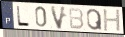0: (34, 6, 48, 29)
B: (68, 7, 85, 31)
H: (103, 9, 123, 32)
L: (15, 5, 31, 28)
Q: (85, 8, 103, 31)
V: (49, 5, 68, 31)
